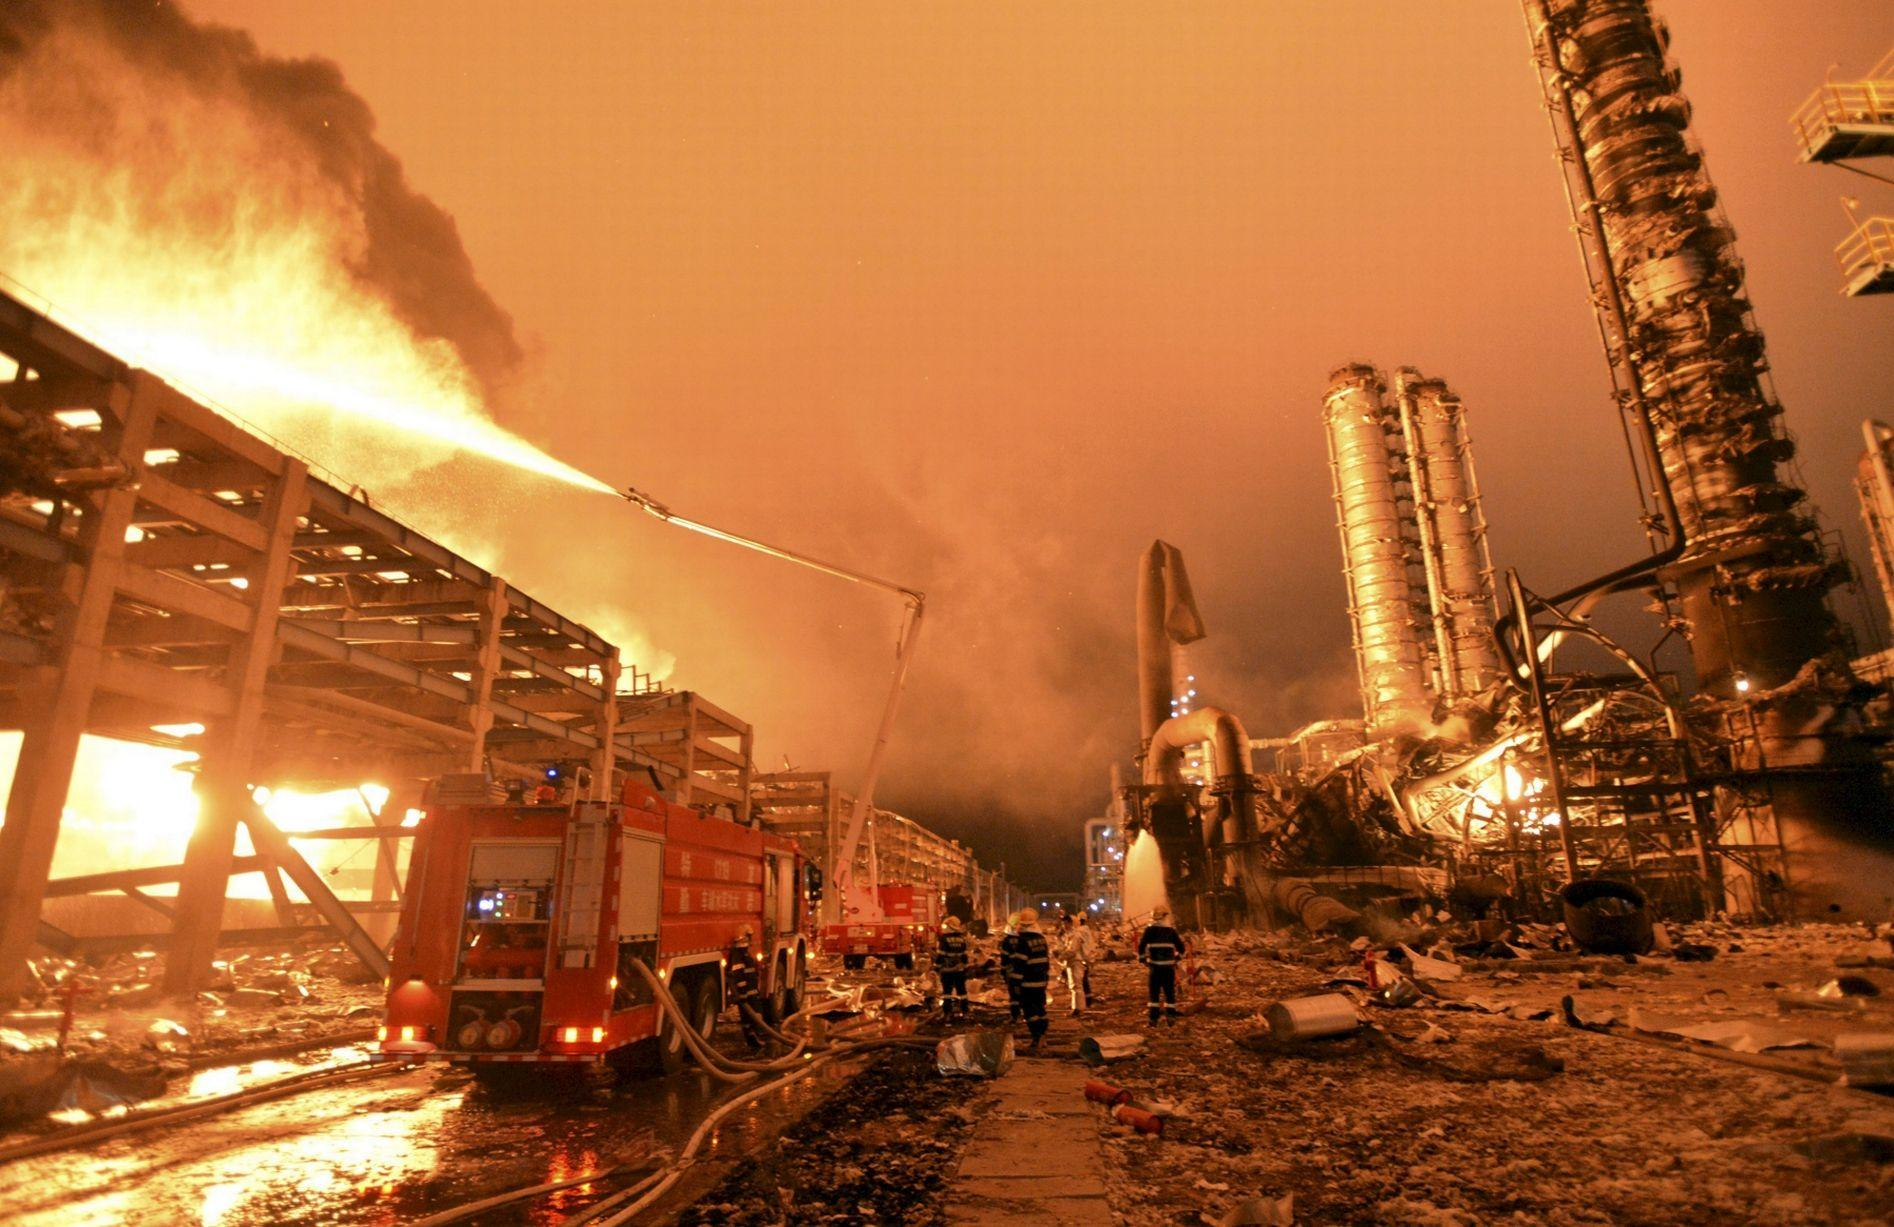Fire: (22, 703, 422, 910)
